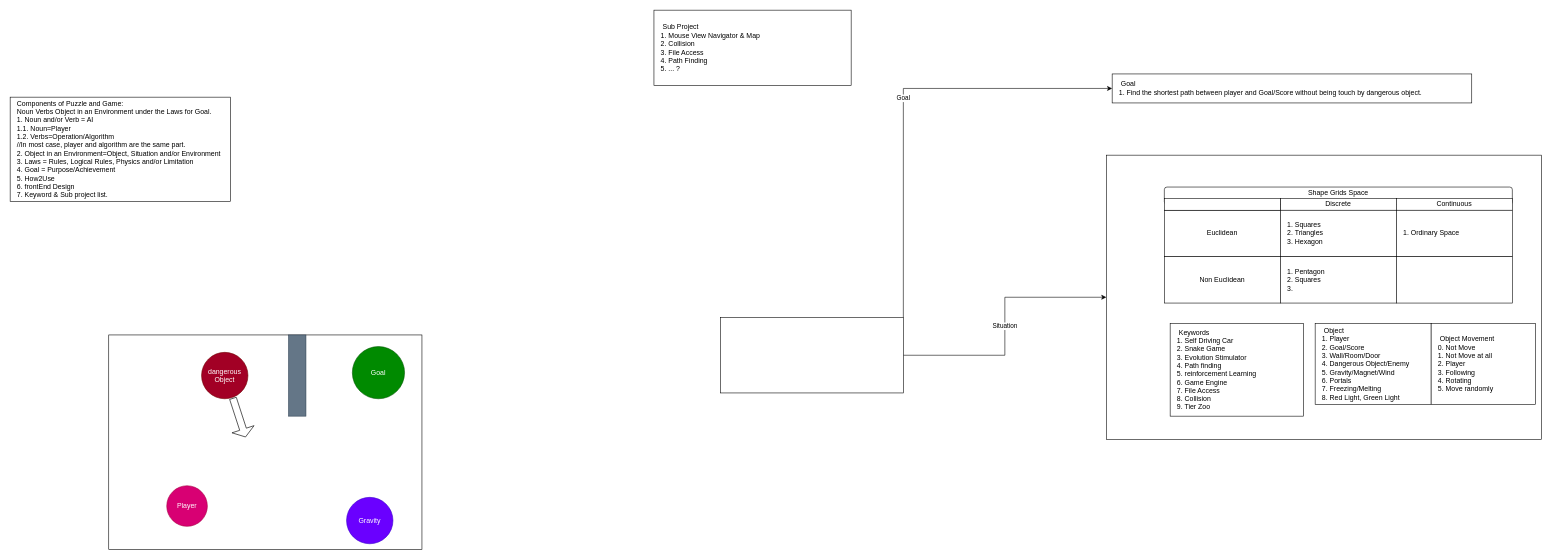
The diagram is 1552 pixels wide and 560 high, and some of its shapes have lost their labels. Each missing label, with the centre of its shape:
"2D Game" goes at point (811, 355).
"Movement" goes at point (239, 417).
"Wall" goes at point (297, 375).
